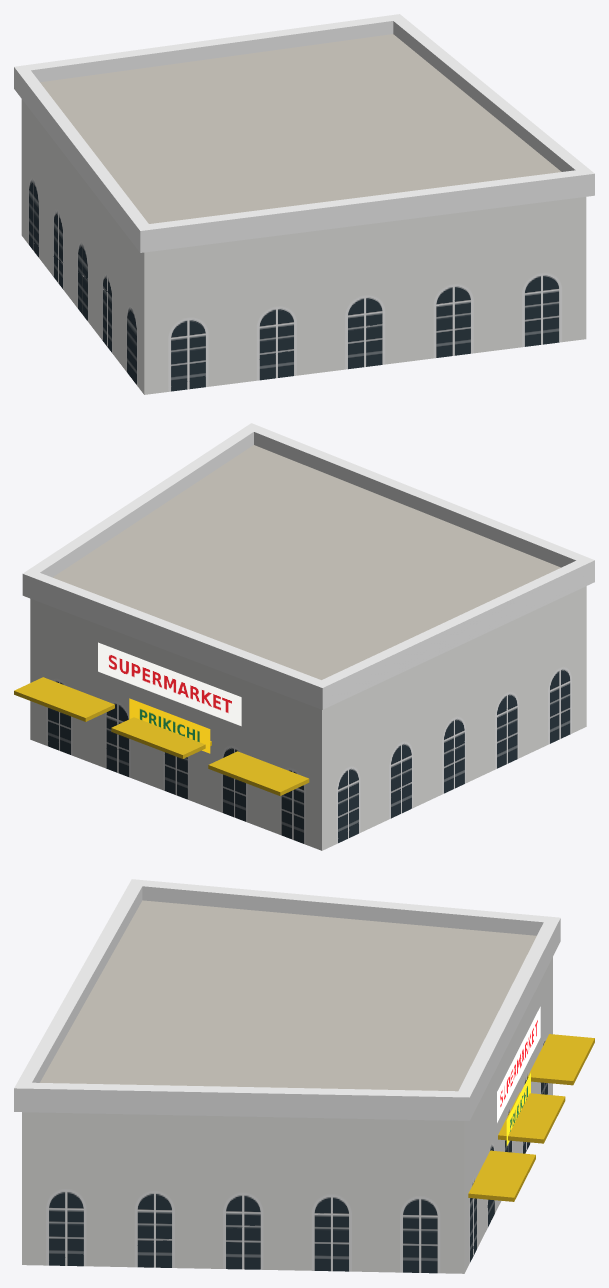
The model's file is prikichi.glb.
The picture shows the model from 3 angles, top to bottom: view 1: azimuth 30°, elevation 25°; view 2: azimuth 150°, elevation 25°; view 3: azimuth 270°, elevation 25°; orthographic projection. The views are drawn at different scales.
Visible parts, largest first — view 1: prikichi_lod0; view 2: prikichi_lod0; view 3: prikichi_lod0.
Part boxes in pixels (left/top/right/bottom): prikichi_lod0: left=14, top=14, right=594, bottom=394; prikichi_lod0: left=14, top=423, right=594, bottom=850; prikichi_lod0: left=14, top=879, right=594, bottom=1273.
Size of what is drawn, in the model's own units: 19.86 by 7.6 by 22.32.
Materials: 6 (2 with a texture image).
